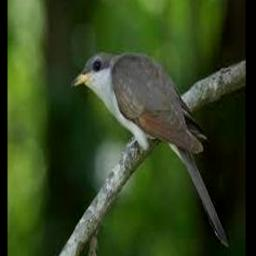Cuckoo: (72, 50, 229, 247)
